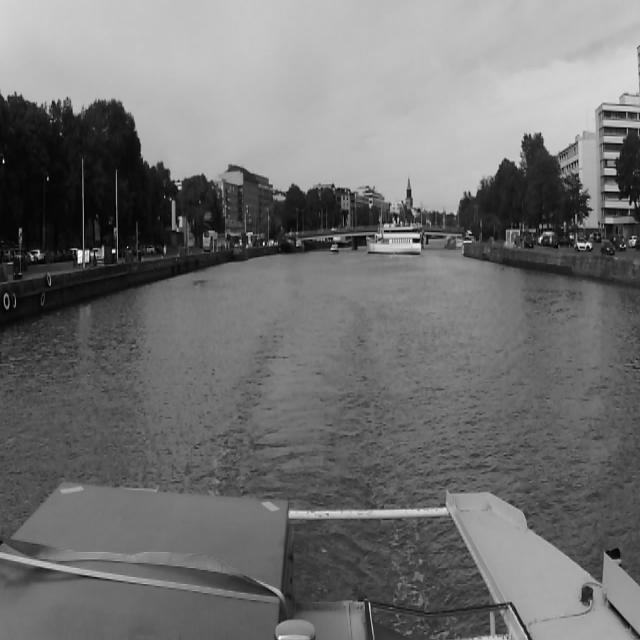ship: (368, 212, 422, 257), (279, 237, 295, 254), (295, 234, 307, 254), (233, 243, 247, 260), (329, 241, 340, 254)
